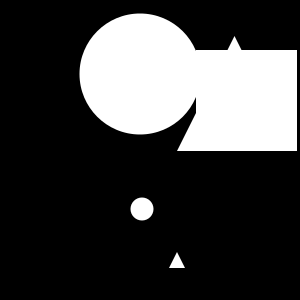circle: (196, 50, 297, 151)
rectangle: (80, 14, 200, 134), (130, 198, 154, 220)
triangle: (177, 36, 292, 151), (169, 252, 185, 268)
